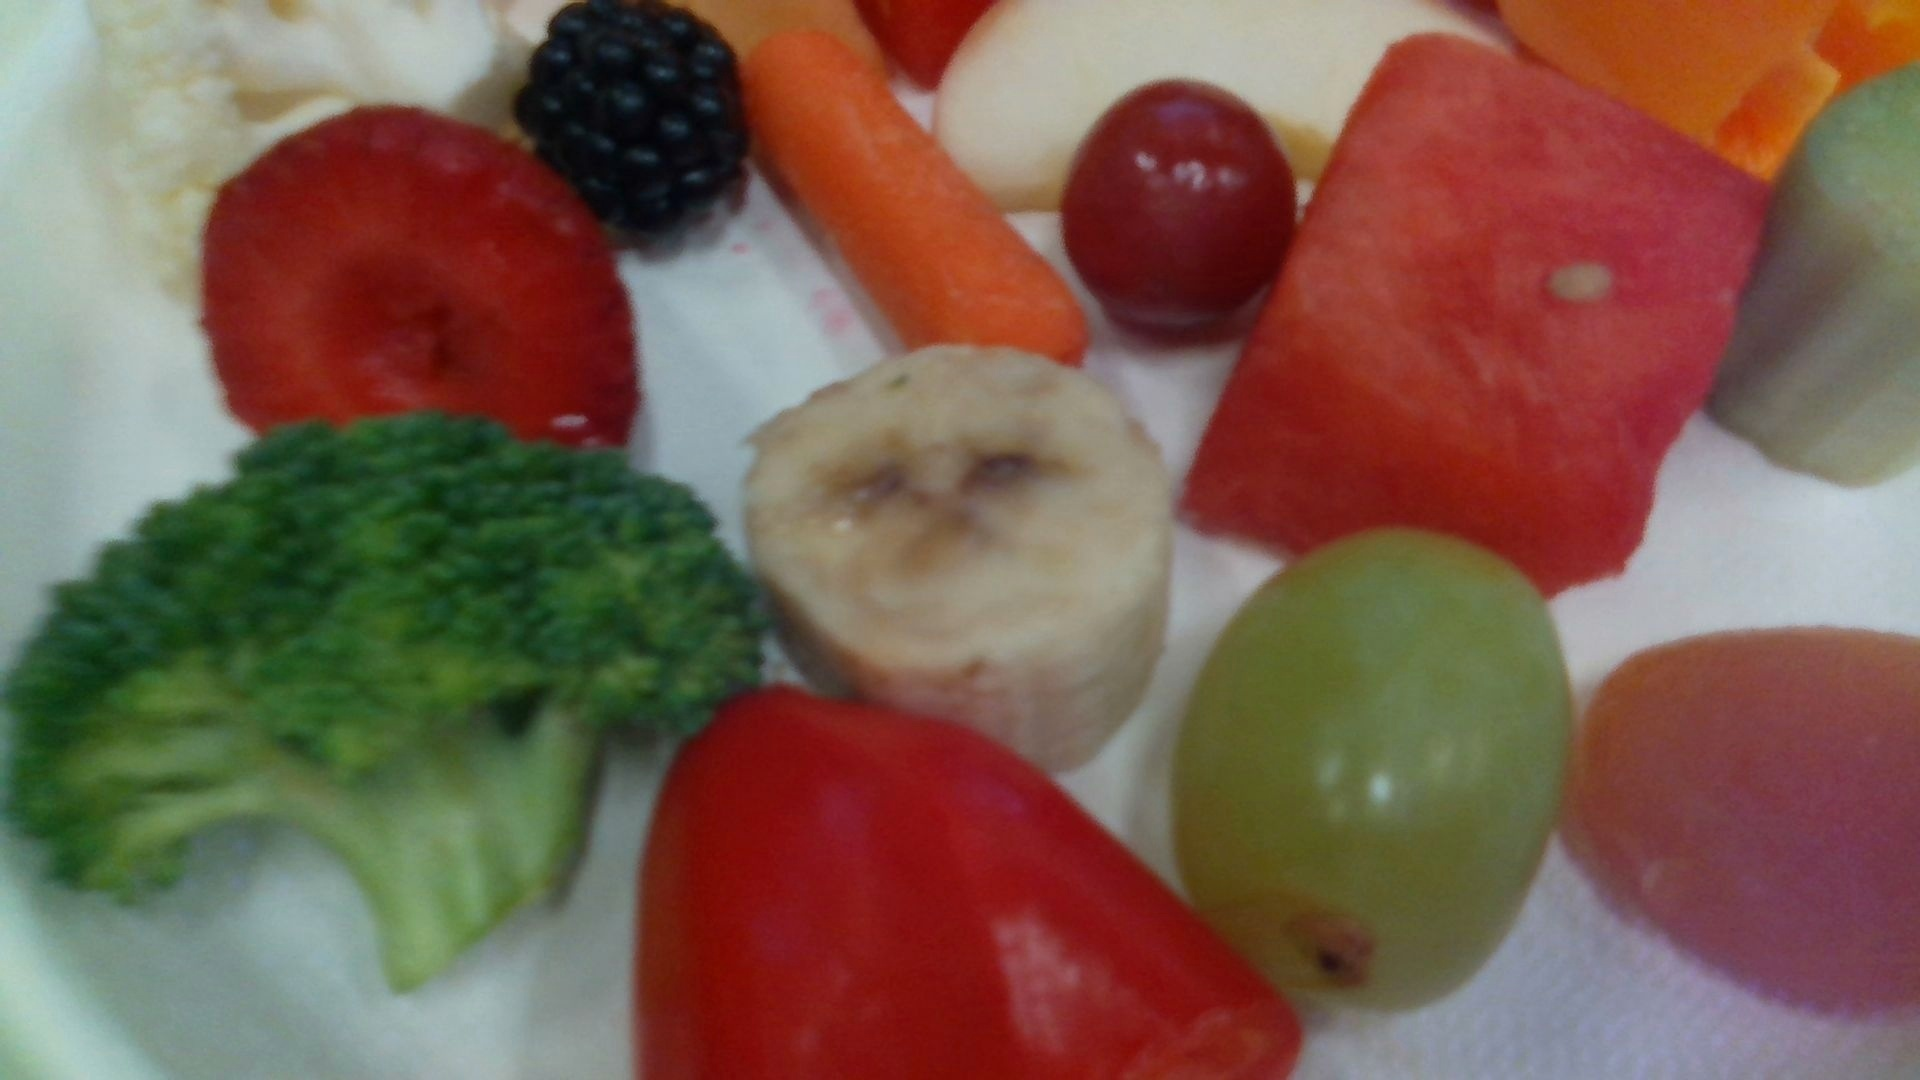apple: (934, 1, 1510, 211)
apricot: (1580, 626, 1920, 1011)
banana: (749, 343, 1168, 766)
bell_pepper: (640, 690, 1300, 1080)
blackberry: (520, 5, 738, 248)
broccoli: (9, 410, 757, 988)
carrot: (738, 38, 1087, 371)
cauliflower: (88, 1, 579, 293)
celery: (1710, 66, 1920, 487)
grape_green: (1175, 527, 1560, 1005)
grape_purple: (1064, 80, 1295, 316)
melon: (1185, 36, 1770, 600)
strawberry: (204, 105, 640, 448)
